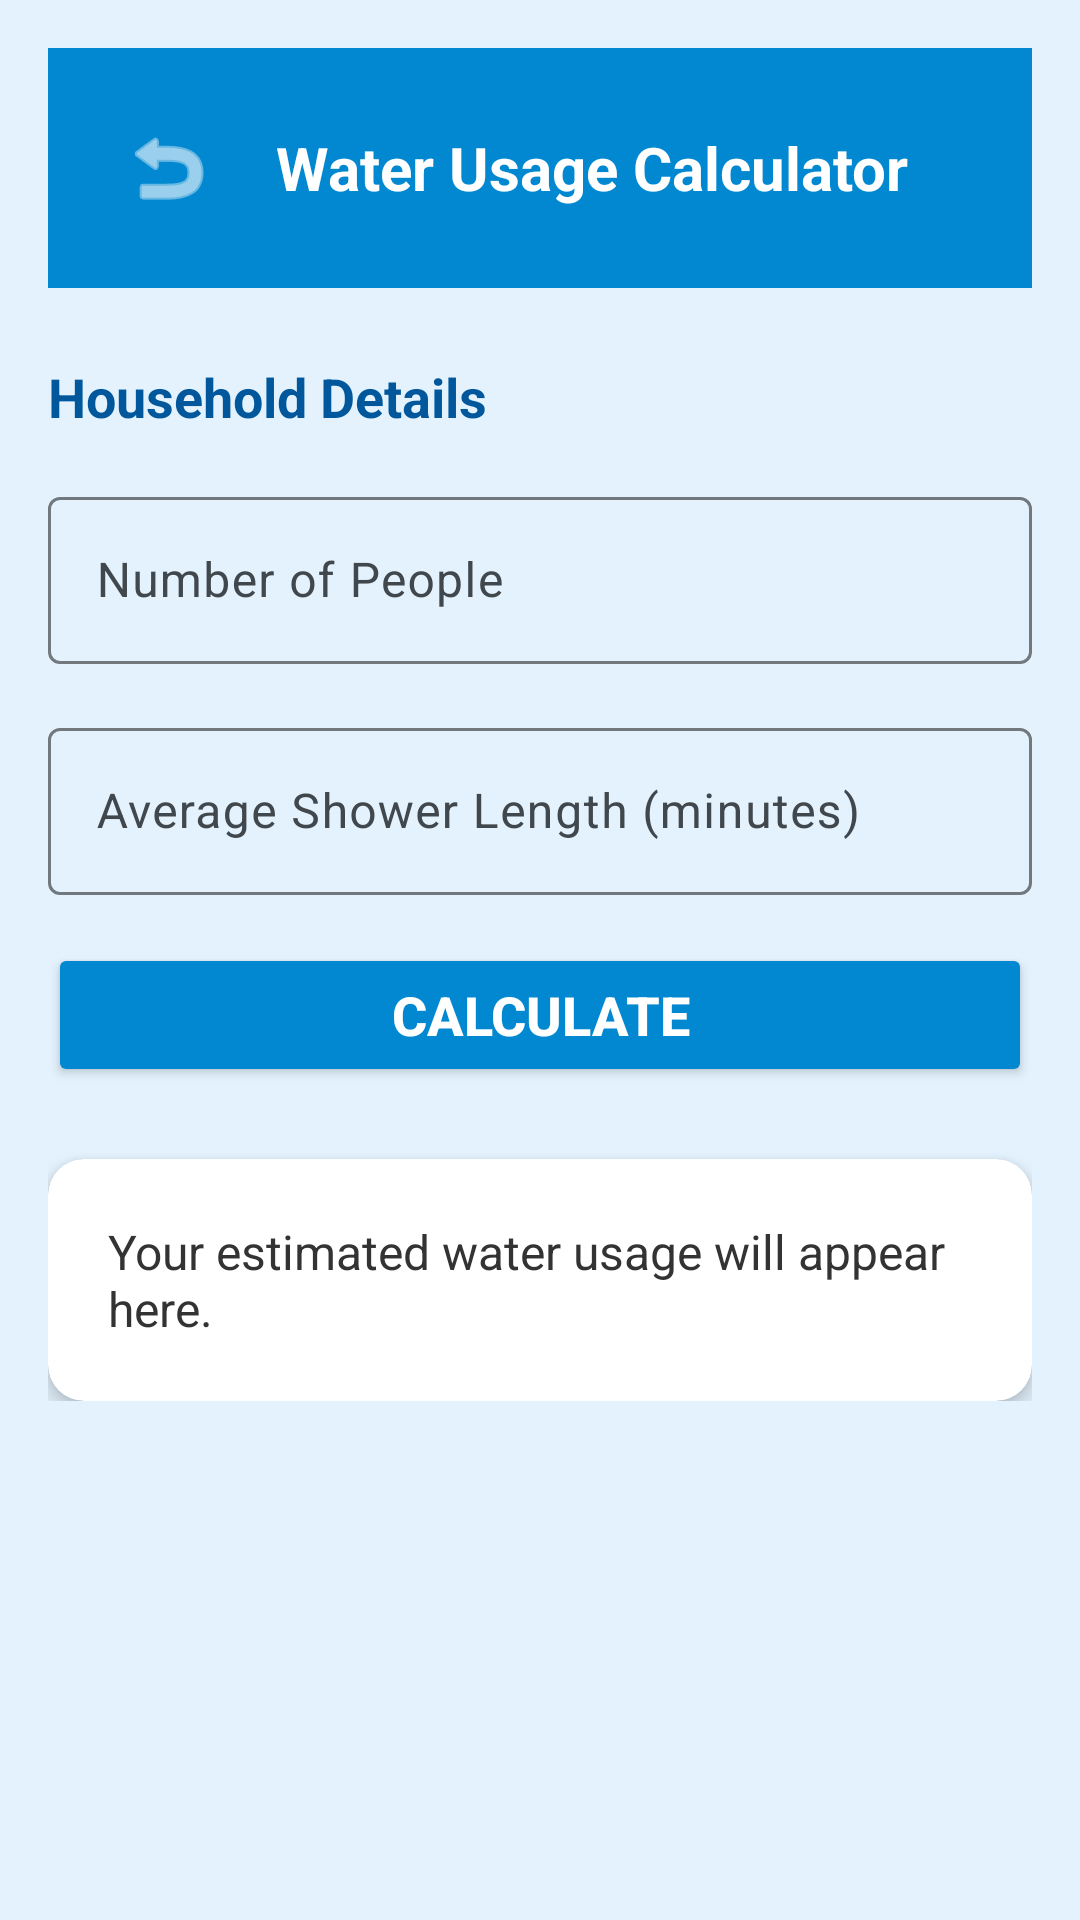

Icon click points for this 1080*1920 phone screenshot, format (x,y):
Back: (169,168)
